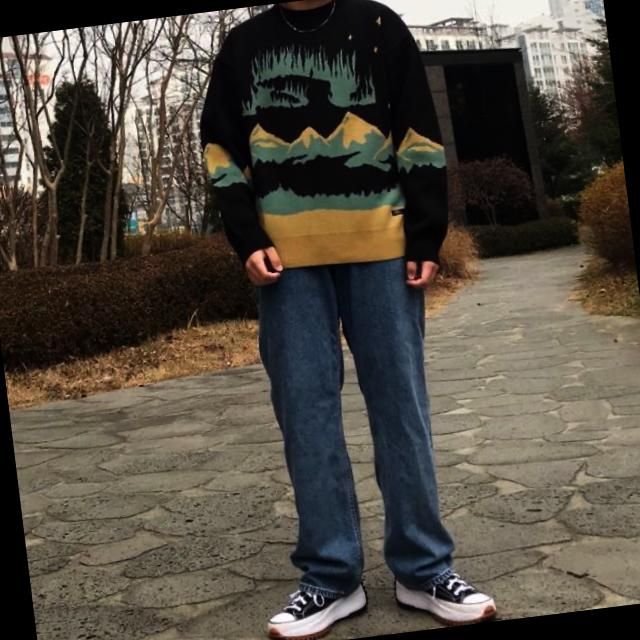denimpants: (248, 246, 462, 604)
sweater: (181, 0, 458, 289)
